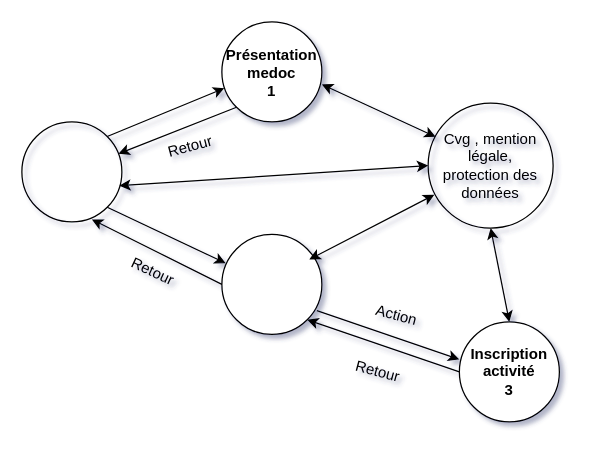
The diagram is 589 pixels wide and 451 high, and some of its shapes have lost their labels. The shapes that lost their labels are listed below. From the top down, each one's centre as x and y in pixels, then its label:
At (x=71, y=171): "Page d'accueil 0".
At (x=271, y=283): "Présentation activités 2".
